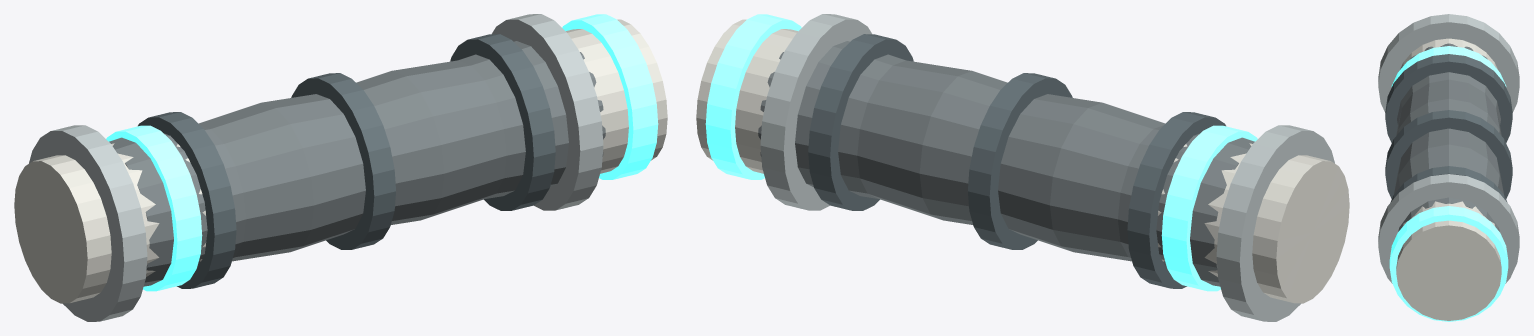
File: s7-i03-hose-straight-0p25m.glb
The picture shows the model from 3 angles, left to right: view 1: azimuth 30°, elevation 25°; view 2: azimuth 150°, elevation 25°; view 3: azimuth 270°, elevation 25°; orthographic projection. The views are drawn at different scales.
Parts seen in each view (by area): view 1: 000_actual_curved_hose_swept_3d, 001_end_0_sealing_socket, 003_end_0_locking_collar, 006_end_1_locking_collar, 009_rib_banding_2, 008_rib_banding_1, 007_rib_banding_0, 005_end_1_cyan_snap_seal, 002_end_0_cyan_snap_seal, 004_end_1_sealing_socket; view 2: 000_actual_curved_hose_swept_3d, 001_end_0_sealing_socket, 003_end_0_locking_collar, 006_end_1_locking_collar, 009_rib_banding_2, 008_rib_banding_1, 007_rib_banding_0, 005_end_1_cyan_snap_seal, 002_end_0_cyan_snap_seal, 004_end_1_sealing_socket; view 3: 004_end_1_sealing_socket, 000_actual_curved_hose_swept_3d, 006_end_1_locking_collar, 003_end_0_locking_collar, 008_rib_banding_1, 007_rib_banding_0, 005_end_1_cyan_snap_seal, 002_end_0_cyan_snap_seal, 009_rib_banding_2, 001_end_0_sealing_socket.
Part boxes in pixels (x1,y1,x2,y2): 000_actual_curved_hose_swept_3d: (109, 41, 605, 286); 001_end_0_sealing_socket: (14, 143, 205, 303); 003_end_0_locking_collar: (29, 125, 147, 321); 006_end_1_locking_collar: (492, 14, 603, 210); 009_rib_banding_2: (450, 34, 555, 210); 008_rib_banding_1: (291, 73, 395, 249); 007_rib_banding_0: (138, 112, 236, 288); 005_end_1_cyan_snap_seal: (562, 14, 658, 179); 002_end_0_cyan_snap_seal: (106, 125, 202, 291); 004_end_1_sealing_socket: (566, 19, 667, 173); 000_actual_curved_hose_swept_3d: (758, 41, 1254, 286); 001_end_0_sealing_socket: (1158, 143, 1349, 303); 003_end_0_locking_collar: (1216, 125, 1334, 321); 006_end_1_locking_collar: (760, 14, 871, 210); 009_rib_banding_2: (808, 34, 913, 210); 008_rib_banding_1: (968, 73, 1072, 249); 007_rib_banding_0: (1127, 112, 1225, 288); 005_end_1_cyan_snap_seal: (705, 14, 801, 179); 002_end_0_cyan_snap_seal: (1161, 125, 1257, 291); 004_end_1_sealing_socket: (696, 19, 797, 173); 004_end_1_sealing_socket: (1396, 201, 1501, 320); 000_actual_curved_hose_swept_3d: (1394, 43, 1503, 231); 006_end_1_locking_collar: (1378, 174, 1519, 283); 003_end_0_locking_collar: (1378, 14, 1519, 112); 008_rib_banding_1: (1385, 110, 1512, 198); 007_rib_banding_0: (1385, 54, 1512, 142); 005_end_1_cyan_snap_seal: (1389, 206, 1508, 321); 002_end_0_cyan_snap_seal: (1391, 46, 1506, 86); 009_rib_banding_2: (1390, 166, 1507, 202); 001_end_0_sealing_socket: (1400, 38, 1497, 69).
Size of the model in its own units: 0.318 by 0.0935 by 0.0935.
